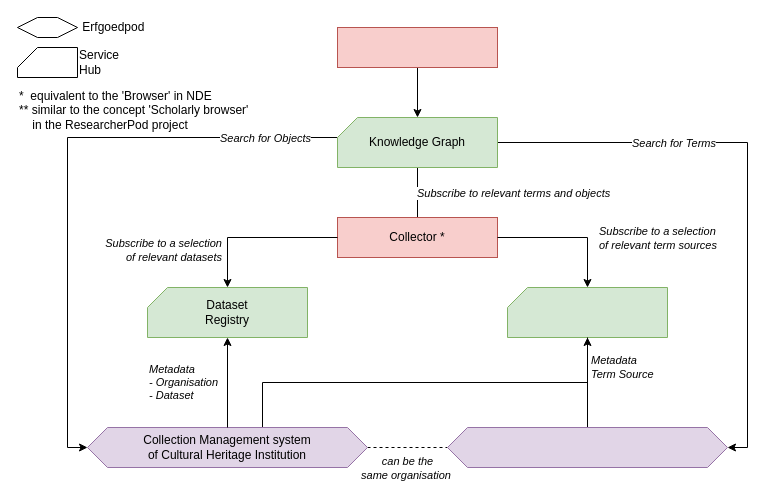
This 773x498 diagram has some shape labels left out. Here are the shapes that lost their labels. From the top down, the centre of each, then its label:
the point at 417,47: Service Portal **
the point at 587,312: Network of Terms
the point at 587,447: Terminology management system of terminology source provider
